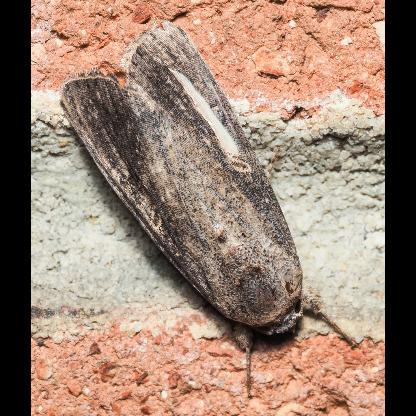Fall Armyworm Moth: (56, 16, 362, 402)
